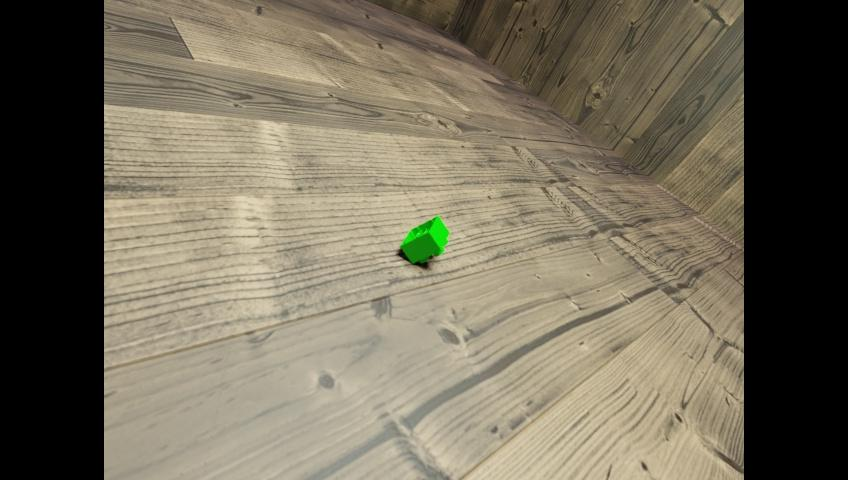2x2_green: (399, 215, 448, 263)
